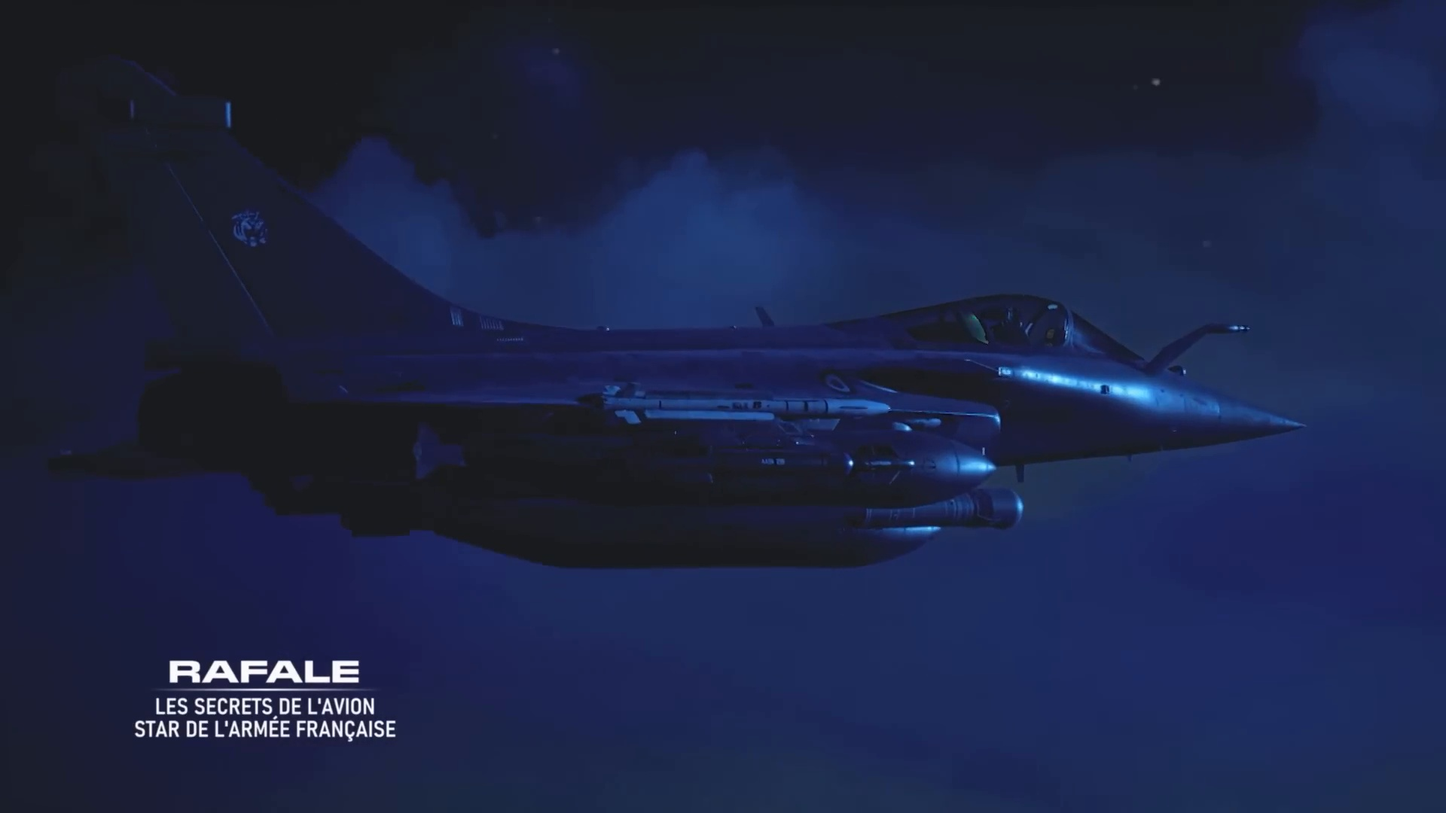Rafale: (34, 40, 1317, 576)
